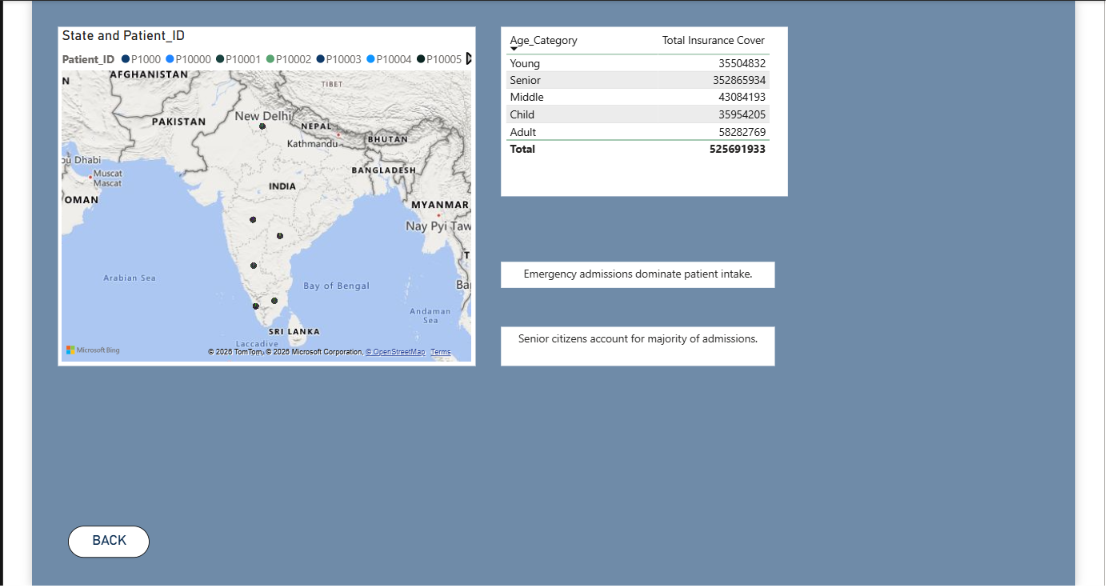

Layout of this report page (visuals, bound fields, positions):
{"tool":"powerbi","page":{"name":"Report3","canvas":[1280,720],"ordinal":2},"visuals":[{"type":"tableEx","fields":{"Values":["Patient_info.Age_Category","Cleaned_Data.Total Insurance Cover"]},"box":[576,32,352,208],"z":0},{"type":"map","fields":{"Category":["Cleaned_Data.State"],"Series":["Cleaned_Data.Patient_ID"]},"box":[32,32,512,416],"z":1000},{"type":"actionButton","title":"BACK","box":[43.7,643.7,100,39.4],"z":2000},{"type":"textbox","box":[576,400,336,48],"z":3000},{"type":"textbox","box":[576,320,336,32],"z":4000}]}

Visuals, with their boxes in screenshot pixels (x1, y1, x2, y2):
tableEx - Patient_info.Age_Category x Cleaned_Data.Total Insurance Cover: <box>435,26,717,192</box>
map - Cleaned_Data.State x Cleaned_Data.Patient_ID: <box>0,26,410,359</box>
"BACK" actionButton: <box>9,515,89,547</box>
textbox: <box>435,320,704,359</box>
textbox: <box>435,256,704,282</box>
